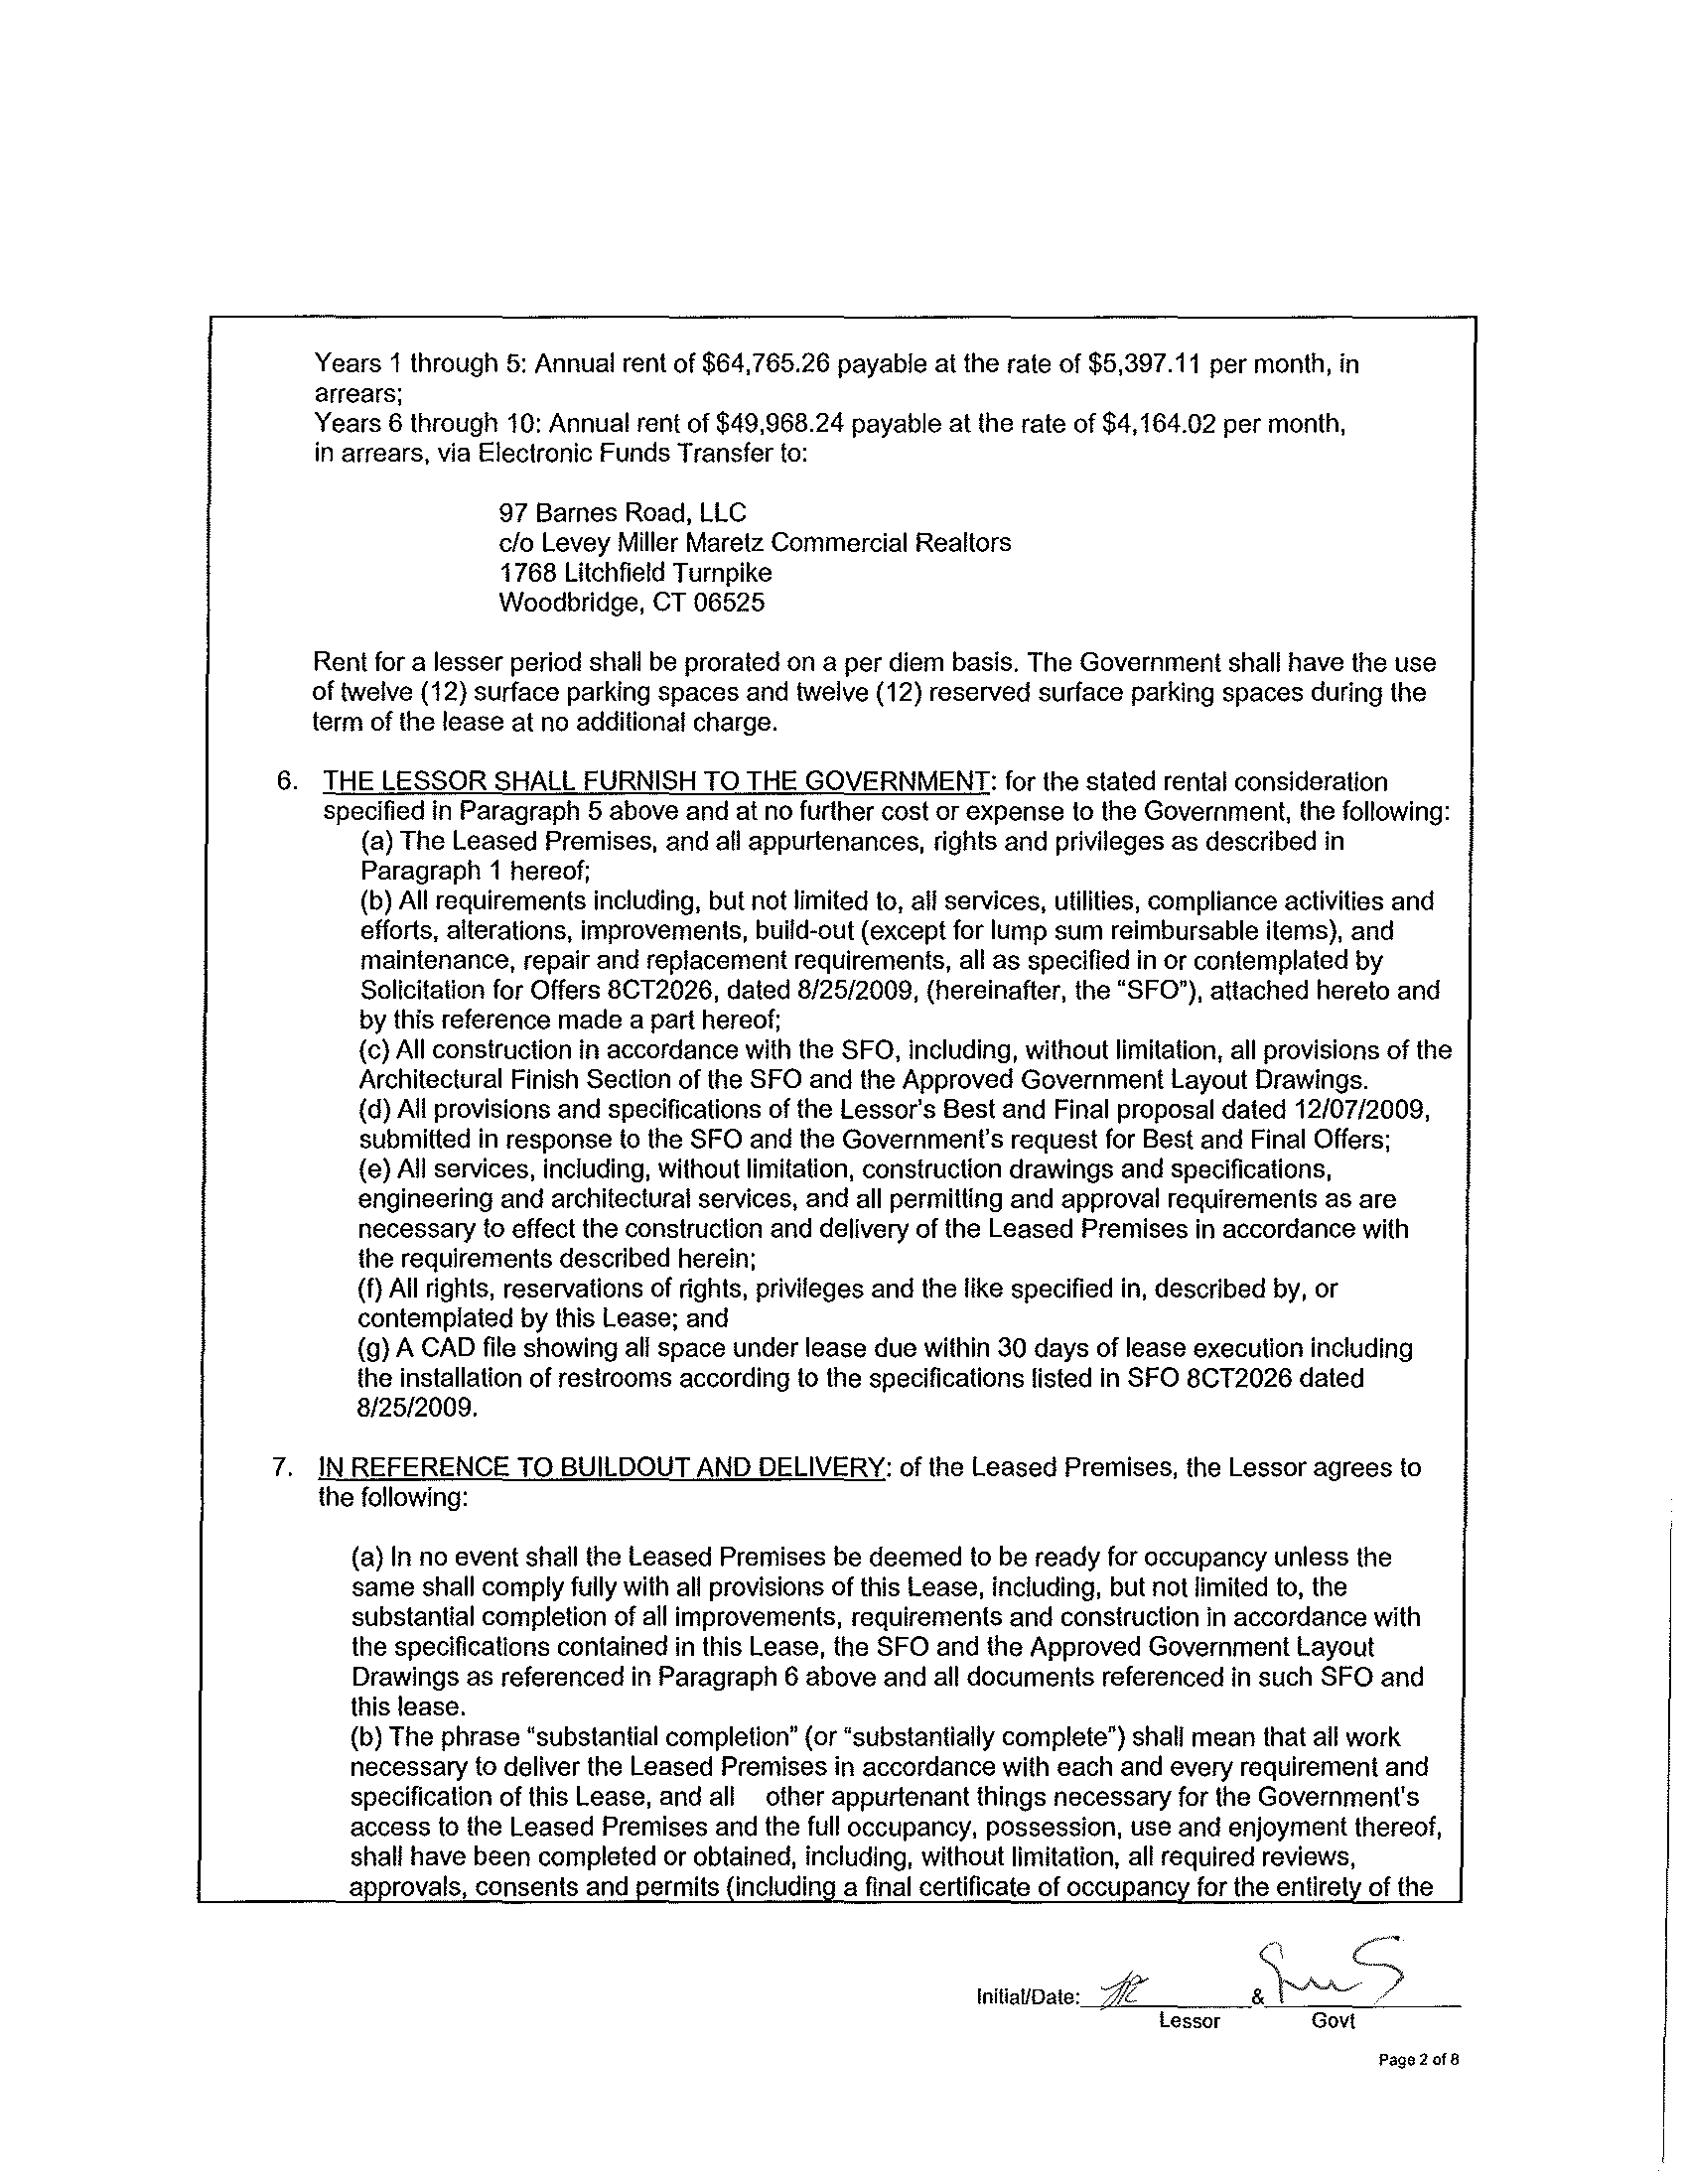handwritten: (1261, 1925, 1434, 2003), (1085, 1962, 1216, 2017)
